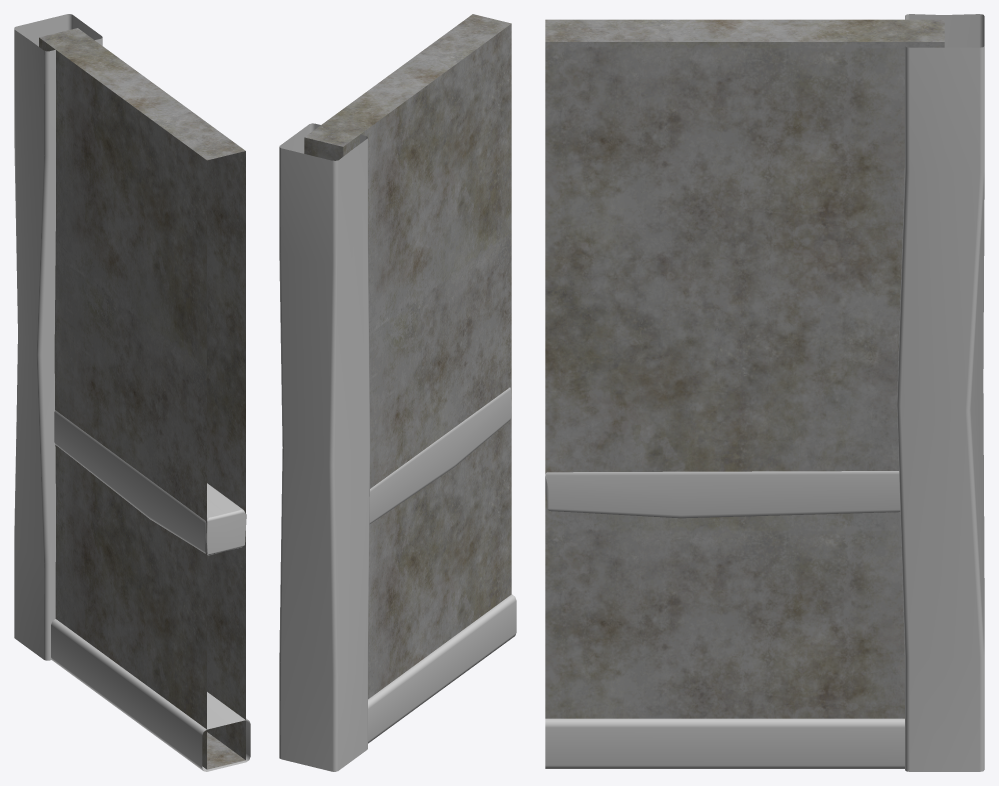
File: SM_WallMedium15.fbx
3 renders of one model, left to right at view 1: azimuth 30°, elevation 25°; view 2: azimuth 150°, elevation 25°; view 3: azimuth 270°, elevation 25°, orthographic. The views are drawn at different scales.
Parts seen in each view (by area): view 1: SM_WallMedium15_LOD0; view 2: SM_WallMedium15_LOD0; view 3: SM_WallMedium15_LOD0.
Part boxes in pixels (x1=…): SM_WallMedium15_LOD0: x1=14, y1=14, x2=250, y2=771; SM_WallMedium15_LOD0: x1=279, y1=14, x2=516, y2=771; SM_WallMedium15_LOD0: x1=545, y1=14, x2=984, y2=771.
Size of the model in its own units: 33.65 by 165 by 301.
